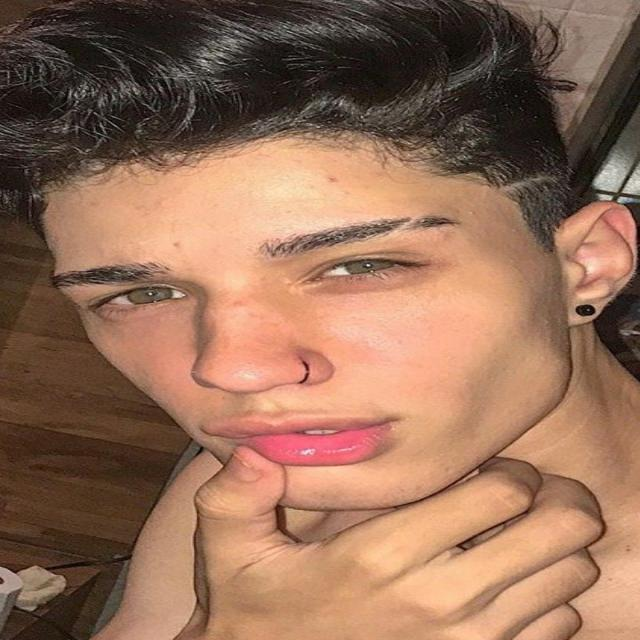Earring: (563, 286, 603, 334)
